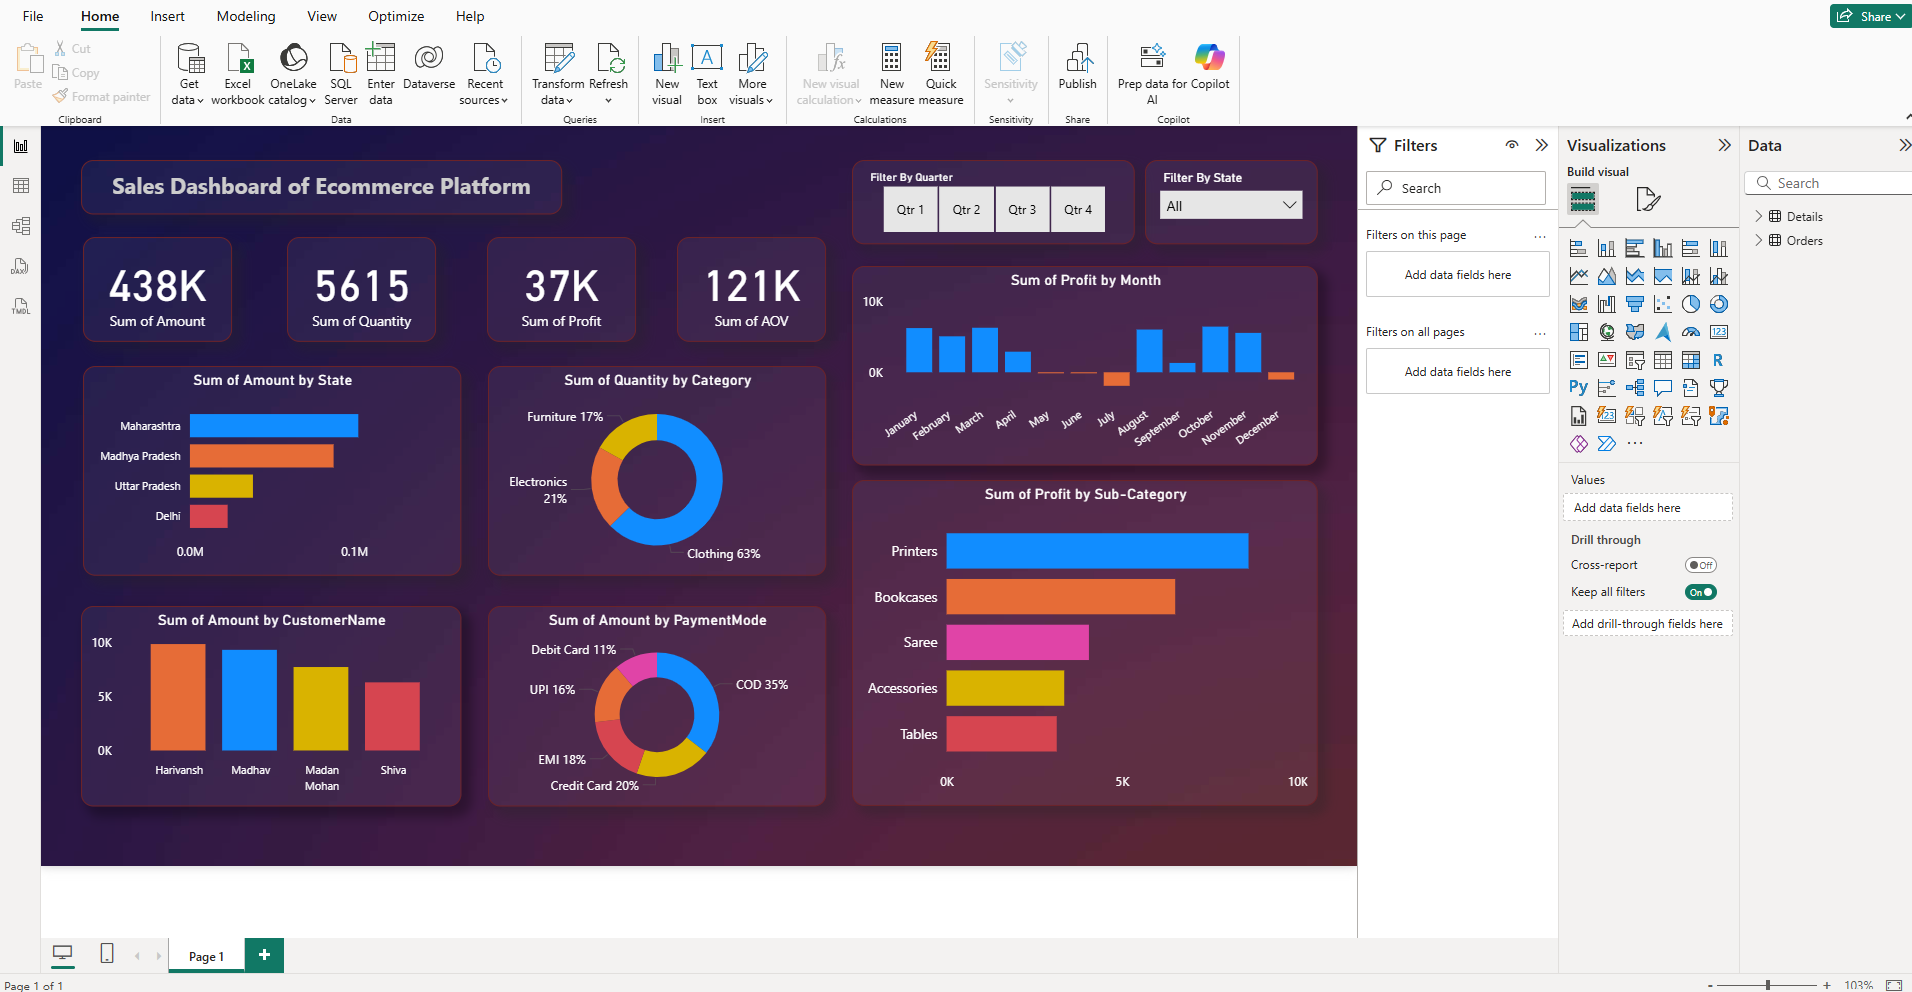

The dashboard page shown, as its layout file describes it:
{"tool":"powerbi","page":{"name":"Page 1","canvas":[1280,720],"ordinal":0},"visuals":[{"type":"textbox","box":[38.9,33.1,467.8,53.5],"z":0},{"type":"columnChart","fields":{"Category":["Orders.Order Date.Variation.Date Hierarchy.Month"],"Y":["Details.Profit"]},"box":[788.8,136.2,453.3,193.6],"z":1000},{"type":"barChart","fields":{"Category":["Details.Sub-Category"],"Y":["Details.Profit"]},"box":[788.8,344.3,453.3,317.1],"z":2000},{"type":"donutChart","fields":{"Category":["Details.Category"],"Y":["Details.Quantity"]},"box":[434.8,233.4,328.8,204.3],"z":3000},{"type":"donutChart","fields":{"Category":["Details.PaymentMode"],"Y":["Details.Amount"]},"box":[434.8,466.9,328.8,194.5],"z":4000},{"type":"card","fields":{"Values":["Details.Amount"]},"box":[40.9,108,144.9,102.1],"z":5000},{"type":"card","fields":{"Values":["Details.Quantity"]},"box":[239.3,108,144.9,102.1],"z":6000},{"type":"card","fields":{"Values":["Details.Profit"]},"box":[433.8,108,144.9,102.1],"z":7000},{"type":"card","fields":{"Values":["Details.AOV"]},"box":[618.6,108,144.9,102.1],"z":8000},{"type":"barChart","fields":{"Category":["Orders.State"],"Y":["Details.Amount"]},"box":[40.9,233.4,367.7,204.3],"z":9000},{"type":"columnChart","fields":{"Category":["Orders.CustomerName"],"Y":["Details.Amount"]},"box":[38.9,466.9,369.6,194.5],"z":10000},{"type":"slicer","fields":{"Values":["Orders.Order Date.Variation.Date Hierarchy.Quarter"]},"box":[788.8,33.1,275.3,81.7],"z":10001},{"type":"slicer","fields":{"Values":["Orders.State"]},"box":[1073.8,33.1,168.3,81.7],"z":10002}]}

Visuals, with their boxes on the page's 1280x720 design canvas (x1, y1, x2, y2). These are canvas units, not pixel positions in the 1912x992 screenshot, which may show the page scaled, cropped or inside an application window:
textbox: BBox(39, 33, 507, 87)
columnChart - Orders.Order Date.Variation.Date Hierarchy.Month x Details.Profit: BBox(789, 136, 1242, 330)
barChart - Details.Sub-Category x Details.Profit: BBox(789, 344, 1242, 661)
donutChart - Details.Category x Details.Quantity: BBox(435, 233, 764, 438)
donutChart - Details.PaymentMode x Details.Amount: BBox(435, 467, 764, 661)
card - Details.Amount: BBox(41, 108, 186, 210)
card - Details.Quantity: BBox(239, 108, 384, 210)
card - Details.Profit: BBox(434, 108, 579, 210)
card - Details.AOV: BBox(619, 108, 764, 210)
barChart - Orders.State x Details.Amount: BBox(41, 233, 409, 438)
columnChart - Orders.CustomerName x Details.Amount: BBox(39, 467, 408, 661)
slicer - Orders.Order Date.Variation.Date Hierarchy.Quarter: BBox(789, 33, 1064, 115)
slicer - Orders.State: BBox(1074, 33, 1242, 115)
